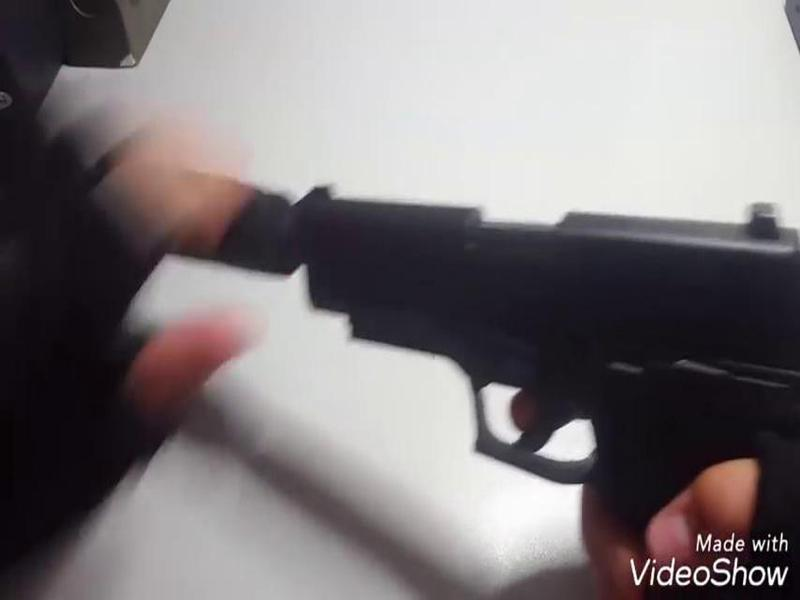Pistola: (307, 173, 800, 526)
